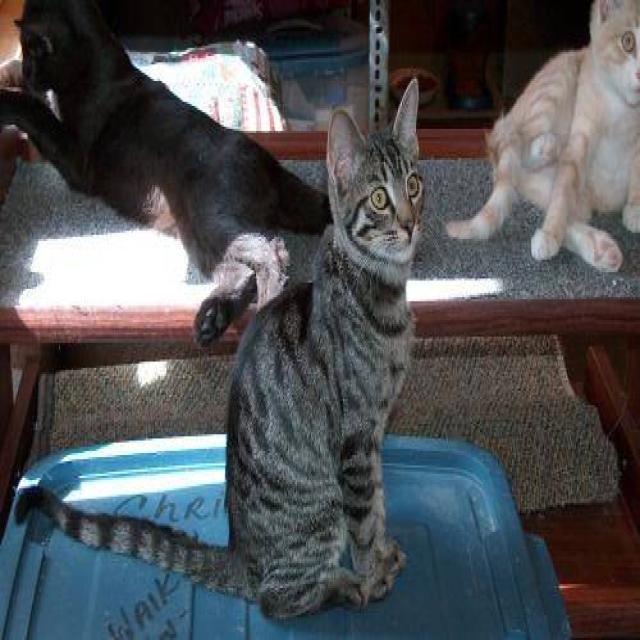cat: (13, 75, 425, 619), (0, 0, 332, 351), (444, 0, 639, 272)
